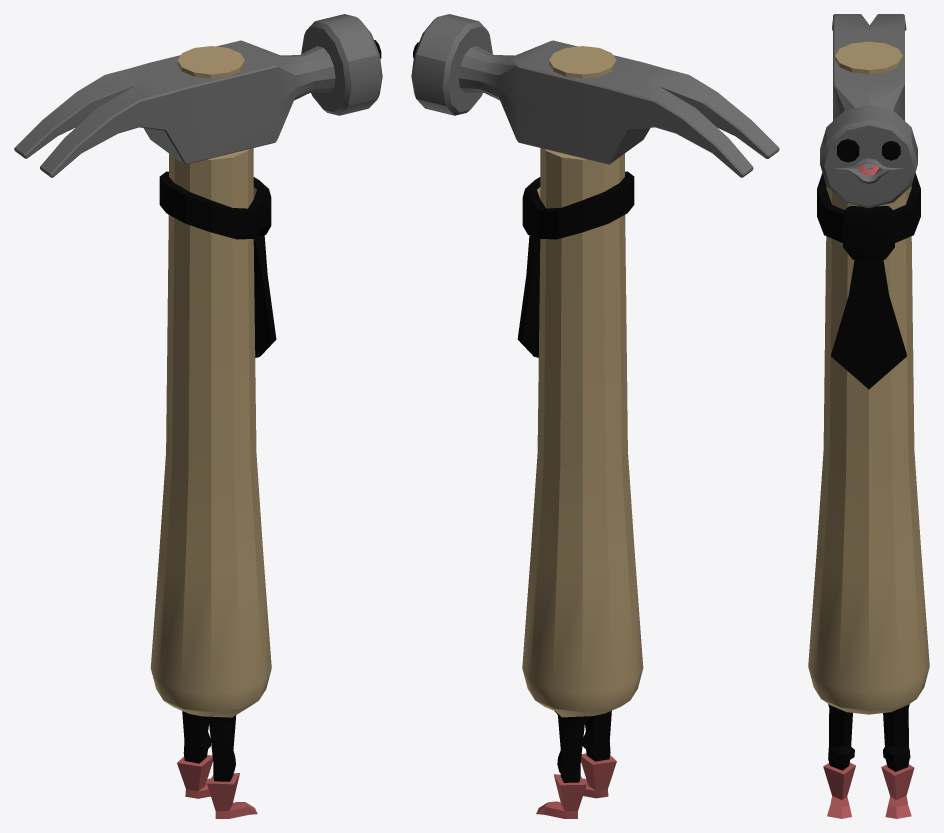
Rendered from Hammer.fbx.
3 views of the same model, side by side, from view 1: azimuth 30°, elevation 25°; view 2: azimuth 150°, elevation 25°; view 3: azimuth 270°, elevation 25° (orthographic).
Visible parts, largest first — view 1: pCylinder7; view 2: pCylinder7; view 3: pCylinder7.
Boxes of the visible parts, x1,y1,x2,y2 form: pCylinder7: (14, 14, 382, 818); pCylinder7: (411, 14, 779, 818); pCylinder7: (808, 14, 929, 818).
Bounding box in the file's own units: 15.98 × 34.55 × 5.03.
